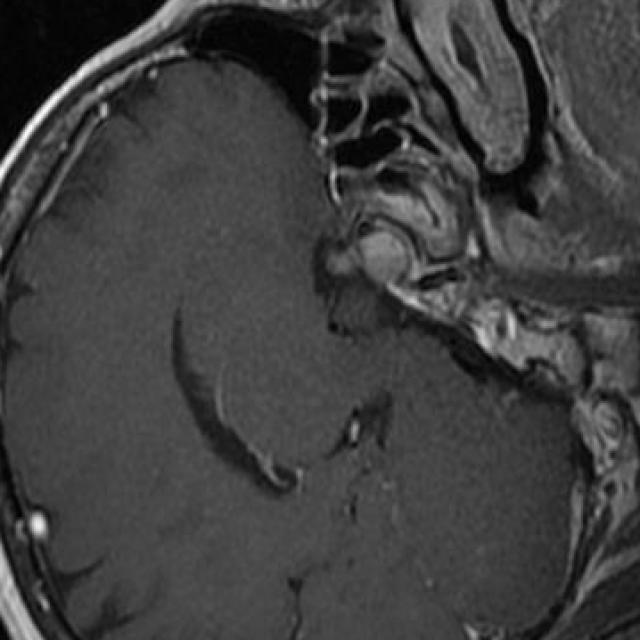pituitary: (333, 230, 412, 283)
